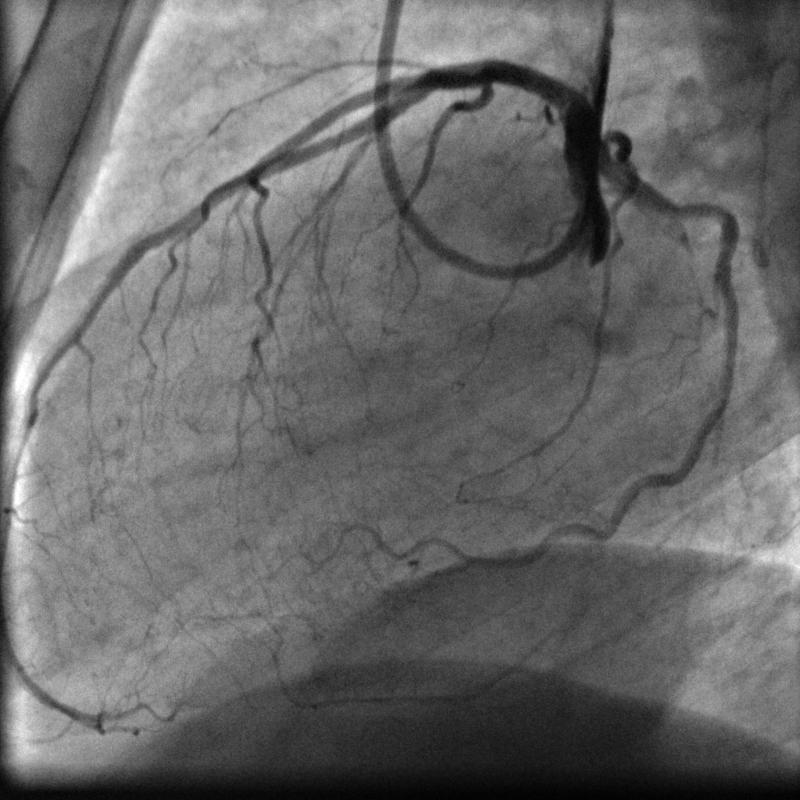Stenosis: (459, 54, 496, 108)
